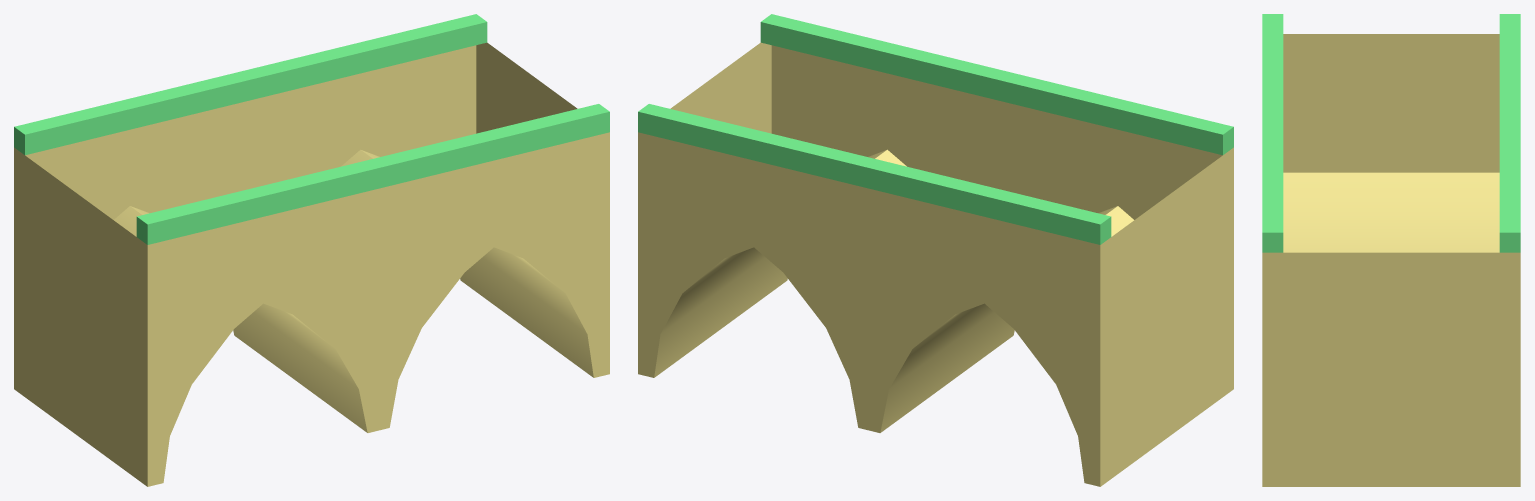
Rendered from walkway_bridge.FBX.
3 renders of one model, left to right at view 1: azimuth 30°, elevation 25°; view 2: azimuth 150°, elevation 25°; view 3: azimuth 270°, elevation 25°, orthographic. The views are drawn at different scales.
Parts seen in each view (by area): view 1: walkway_bridge; view 2: walkway_bridge; view 3: walkway_bridge.
Part boxes in pixels (bbox=[...]): walkway_bridge: bbox=[14, 14, 609, 486]; walkway_bridge: bbox=[638, 14, 1233, 486]; walkway_bridge: bbox=[1262, 14, 1520, 486].
Bounding box in the file's own units: 20 × 10.85 × 10.
